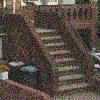stairs: (38, 29, 90, 90)
